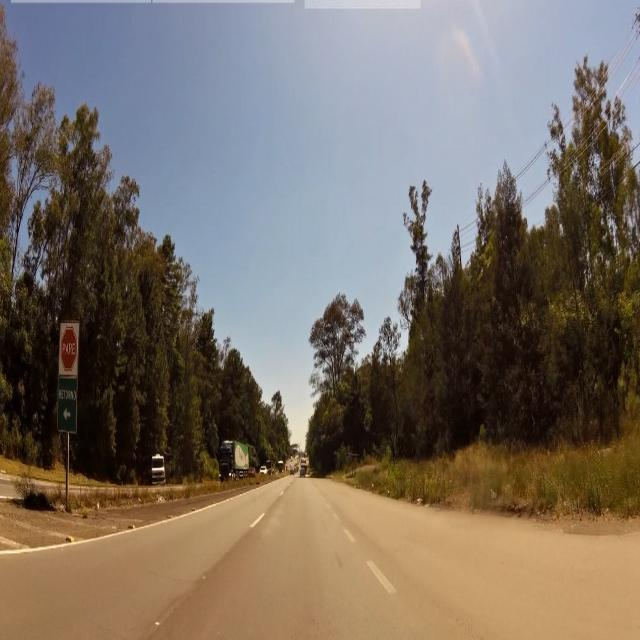R-1: (60, 326, 77, 372)
